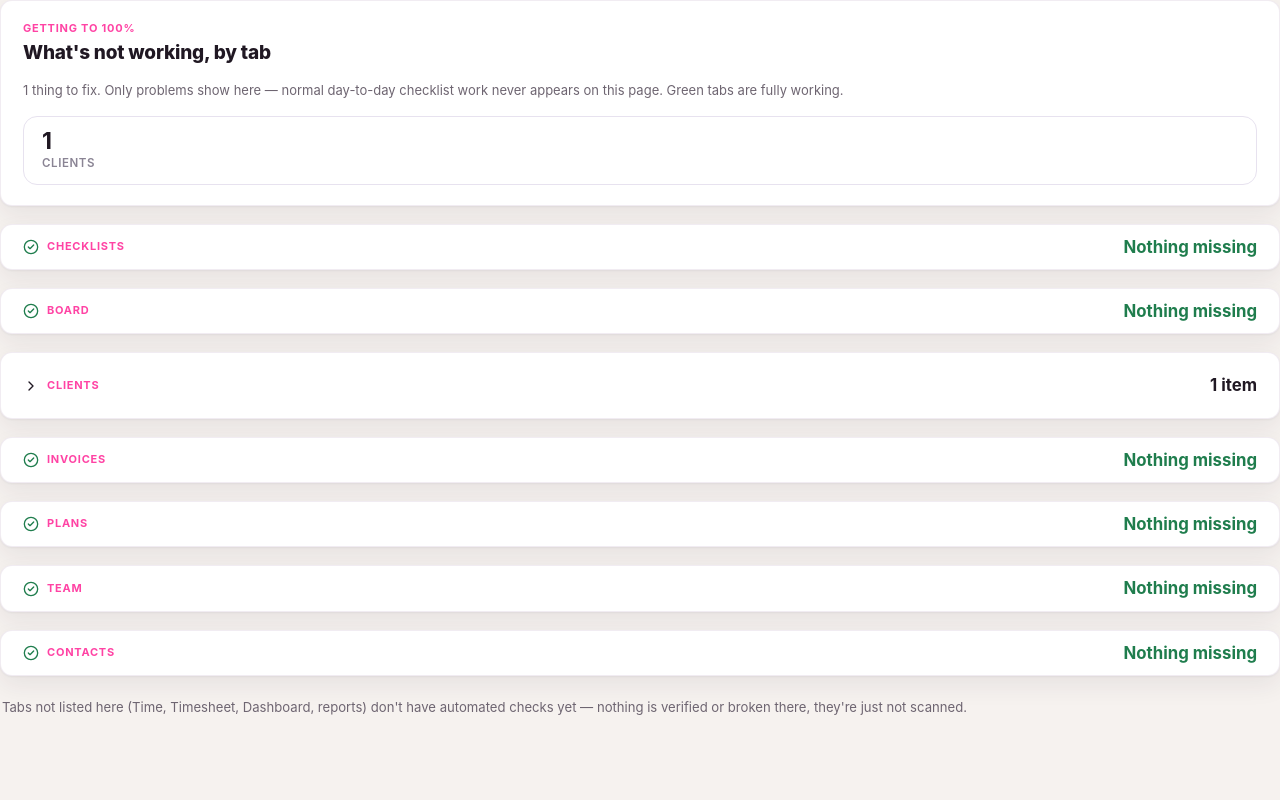
Scenario: SetupChecklistPage plan checklist nudges › shows none before the packages fetch settles, then one per covering package
Expected: the text "checklists for Acme" is not shown
Click the button with class "setup-cat-header" showing "Clients 1 item" at [73, 385], box [23,373,1257,398]
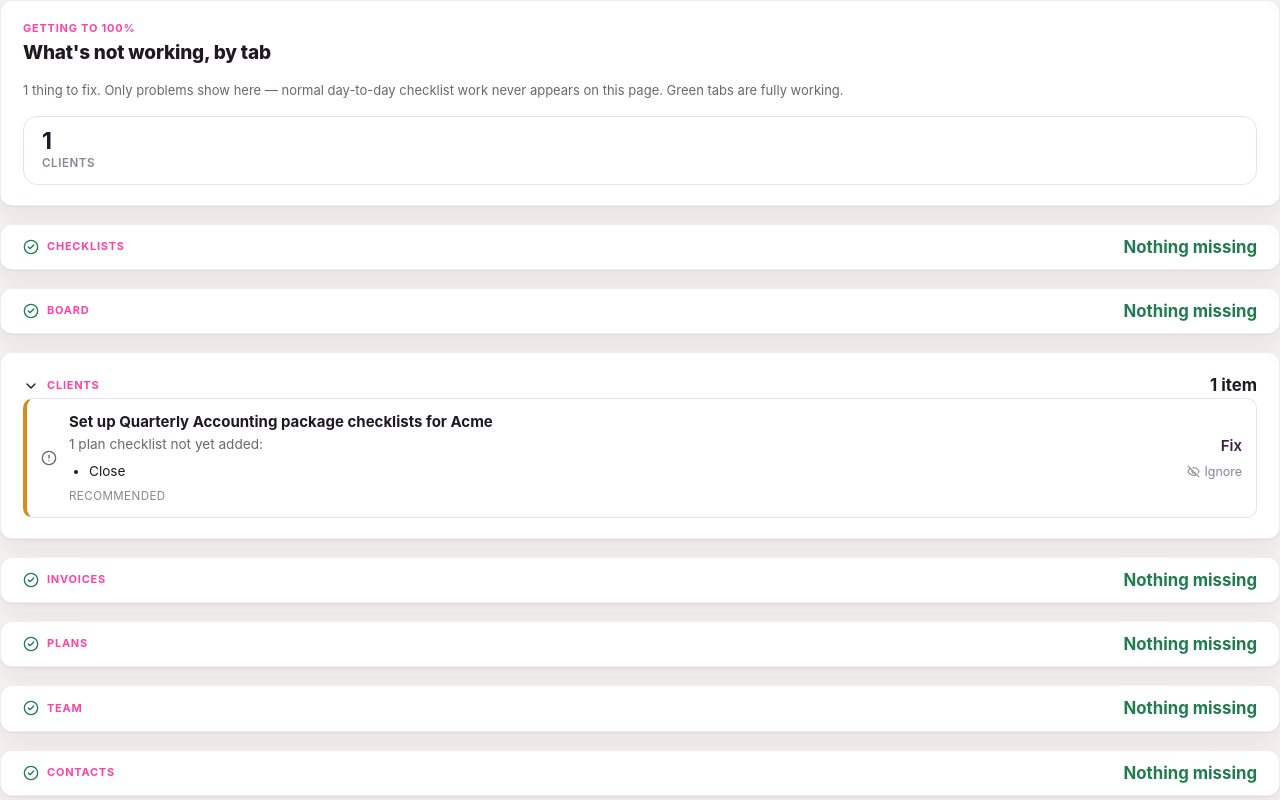
Expected: the text "Set up Quarterly Accounting package checklists for Acme" is shown, [69,412,493,431]
